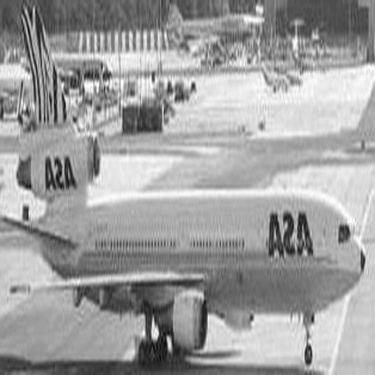airplane: (7, 5, 369, 369), (144, 1, 278, 49), (14, 27, 117, 88)
